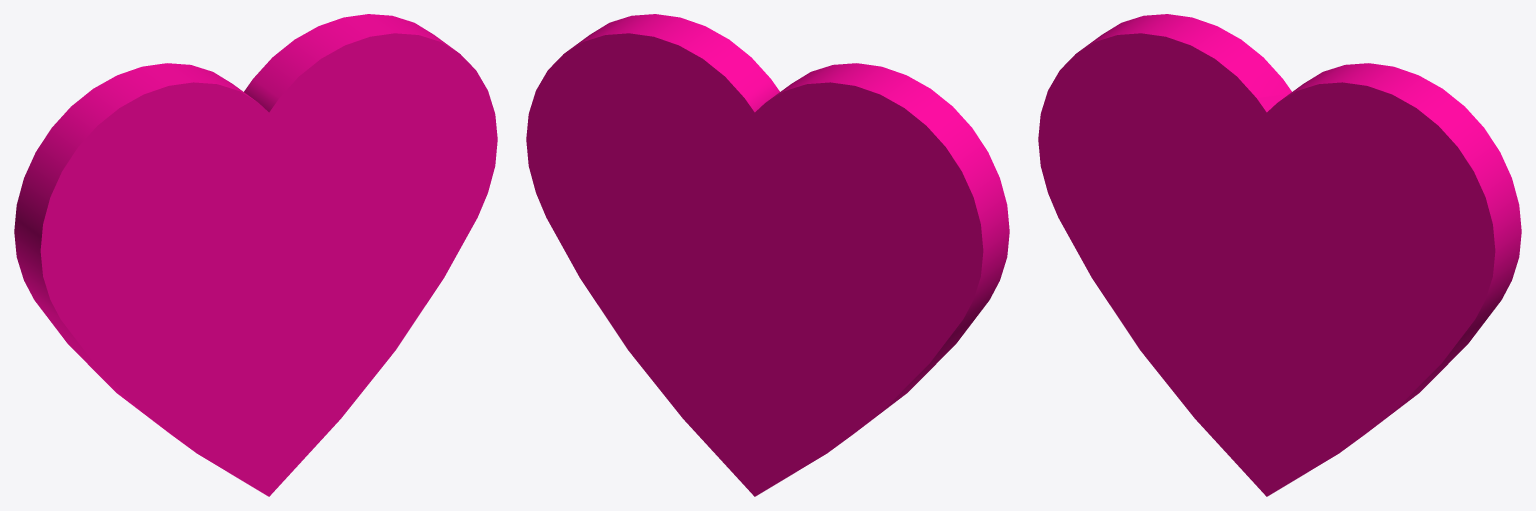
Rendered from 01 dil.FBX.
3 renders of one model, left to right at view 1: azimuth 30°, elevation 25°; view 2: azimuth 150°, elevation 25°; view 3: azimuth 330°, elevation 25°, orthographic.
Parts seen in each view (by area): view 1: SM_Icon_Heart_01; view 2: SM_Icon_Heart_01; view 3: SM_Icon_Heart_01.
Boxes of the visible parts, bbox=[...] form: SM_Icon_Heart_01: bbox=[14, 14, 497, 496]; SM_Icon_Heart_01: bbox=[526, 14, 1009, 496]; SM_Icon_Heart_01: bbox=[1038, 14, 1521, 496].
Size of the model in its own units: 63.25 by 57.6 by 6.32.
